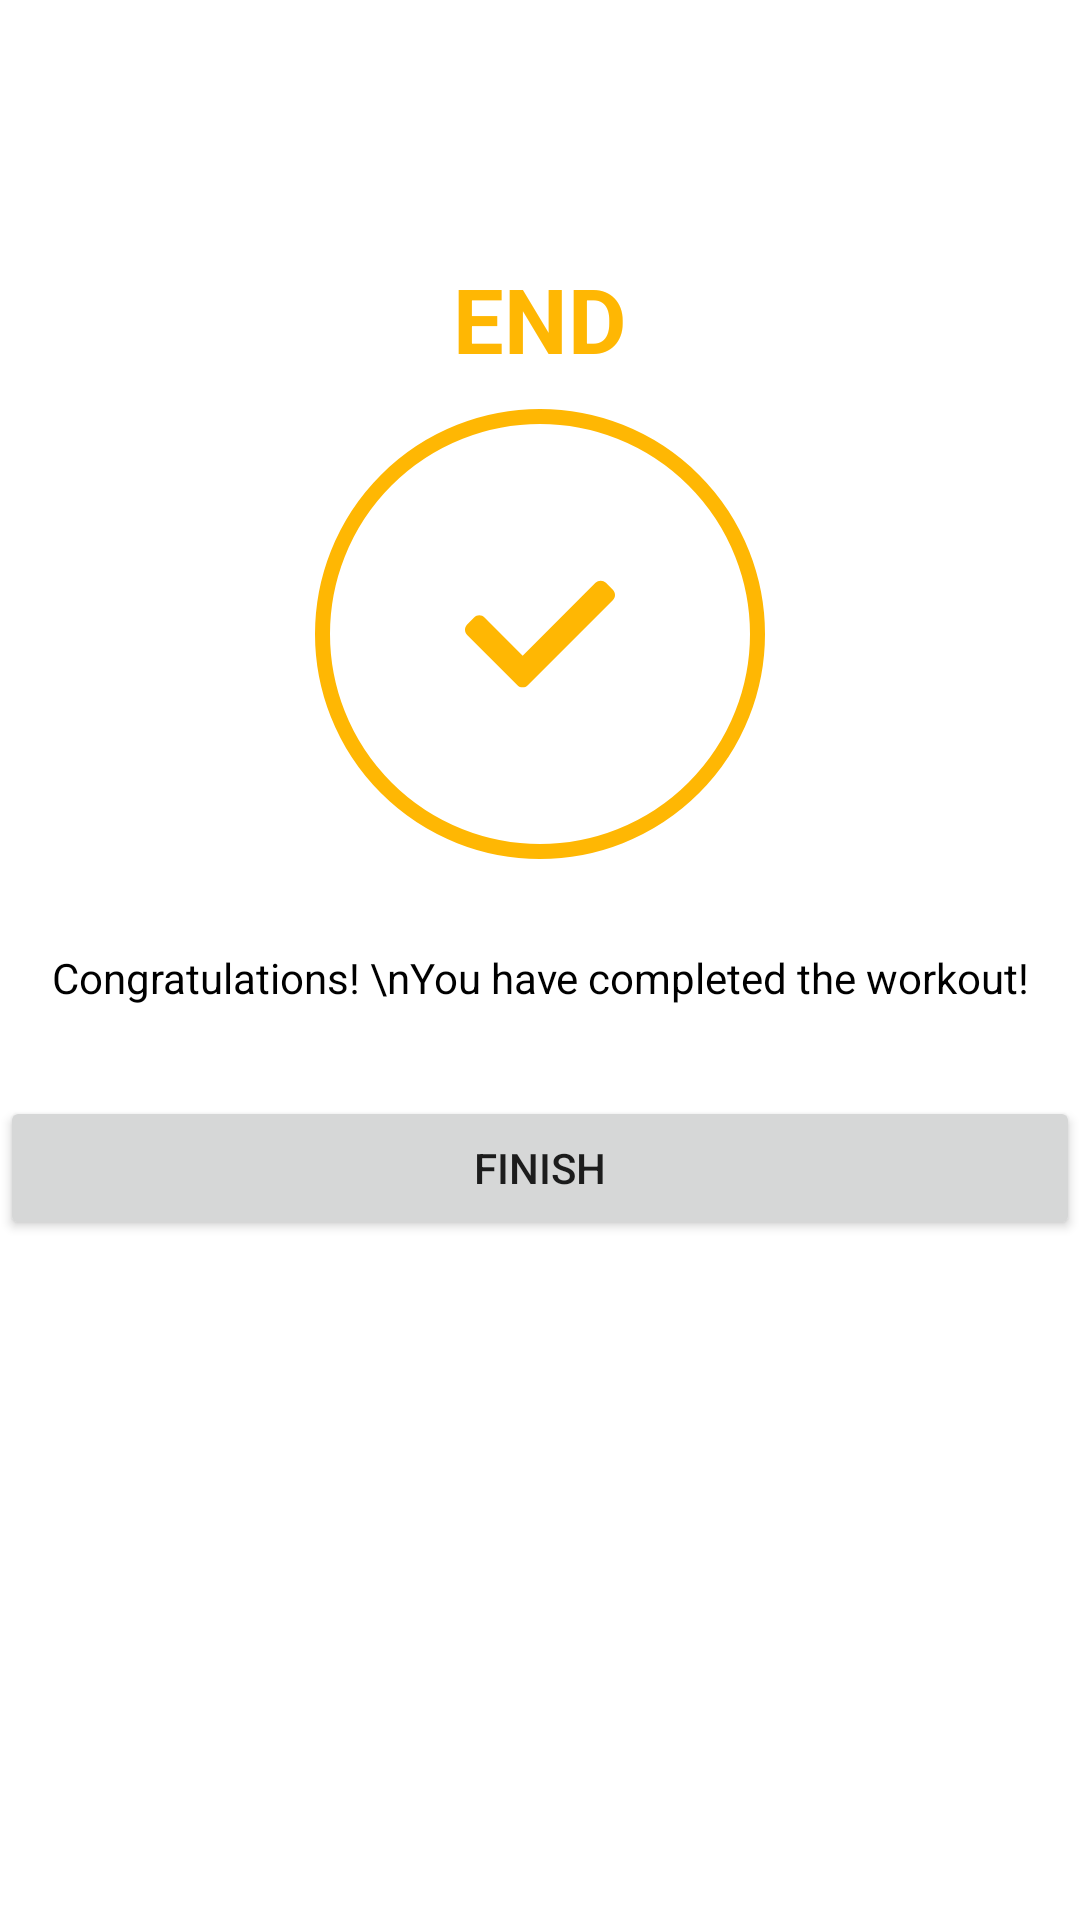

Icon bounding boxes for this 1080 × 1920 phone screenshot, format [x1=x1, y1=y1, x2=x2, y2=y2]:
basic tick: [x1=465, y1=580, x2=615, y2=688]
